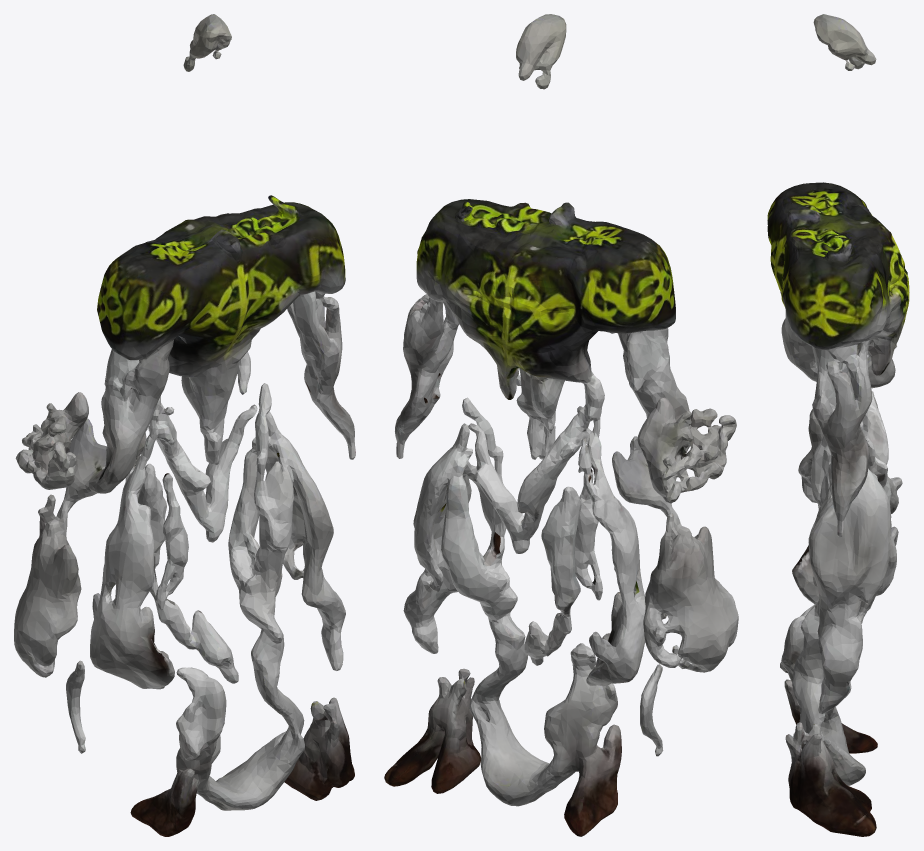
Rendered from miniboss_treant.textured.glb.
3 renders of one model, left to right at view 1: azimuth 30°, elevation 25°; view 2: azimuth 150°, elevation 25°; view 3: azimuth 270°, elevation 25°, orthographic. The views are drawn at different scales.
Visible parts, largest first — view 1: out.obj; view 2: out.obj; view 3: out.obj.
Part boxes in pixels (x1,y1,x2,y2): out.obj: (14,14,355,836); out.obj: (384,14,738,836); out.obj: (767,14,909,836).
Size of the model in its own units: 0.8748 by 1.99 by 0.3378.
1 material, 1 textured.
